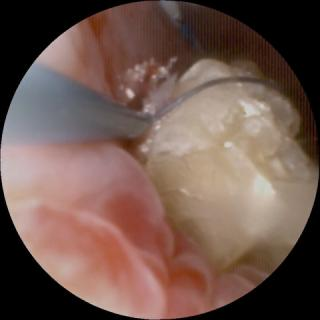stone: (132, 60, 313, 274)
tissue: (6, 145, 263, 314)
